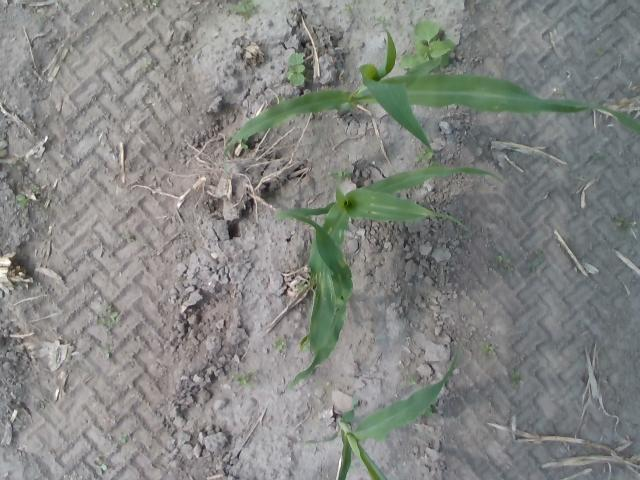Maize: (221, 26, 640, 172), (273, 164, 508, 349), (306, 344, 462, 480), (276, 211, 352, 390)
Weeds: (397, 20, 455, 75), (286, 52, 306, 86), (492, 250, 516, 273), (230, 0, 254, 20), (612, 215, 636, 234), (95, 308, 119, 326), (526, 250, 544, 274), (234, 370, 257, 388), (226, 132, 248, 150), (416, 146, 435, 163), (330, 168, 352, 182), (478, 342, 496, 357), (297, 334, 311, 352), (510, 368, 521, 390), (420, 406, 438, 418), (94, 458, 107, 474), (15, 194, 31, 207), (344, 3, 356, 16), (274, 337, 285, 350), (270, 95, 285, 103), (142, 59, 152, 70), (123, 234, 135, 243), (146, 0, 158, 9), (406, 374, 416, 384), (297, 282, 308, 291), (119, 433, 128, 443), (376, 16, 387, 24), (30, 183, 40, 190), (596, 50, 606, 56)
